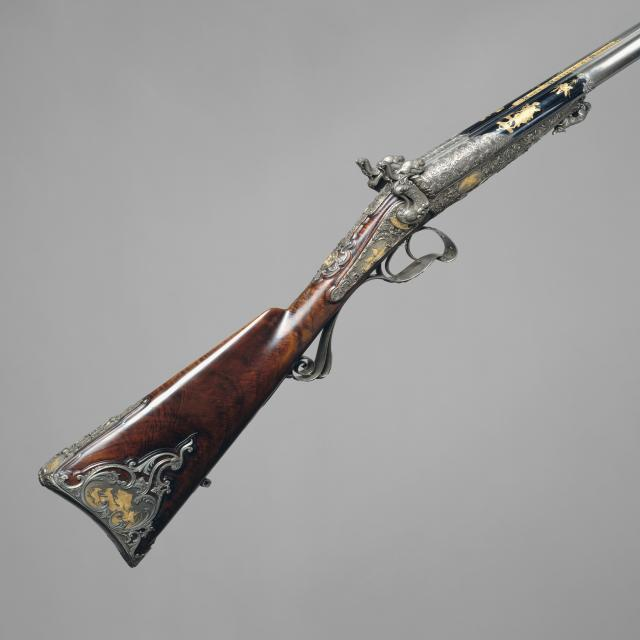Weapon: (38, 22, 640, 567)
